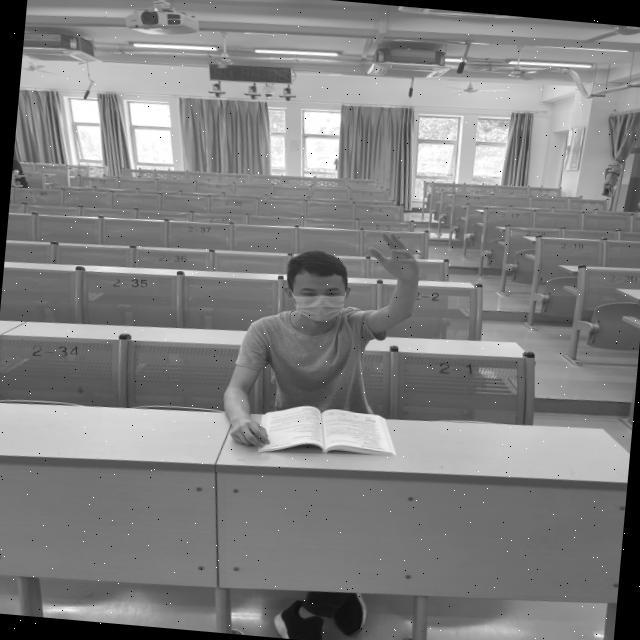study: (217, 221, 424, 462)
